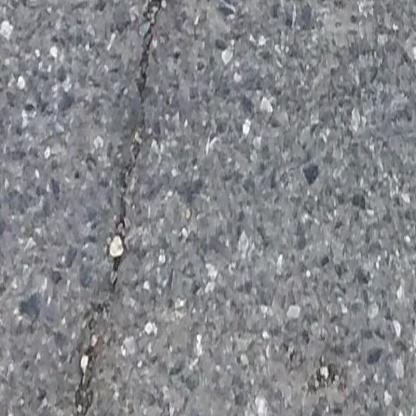Cracks: (66, 0, 175, 416)
